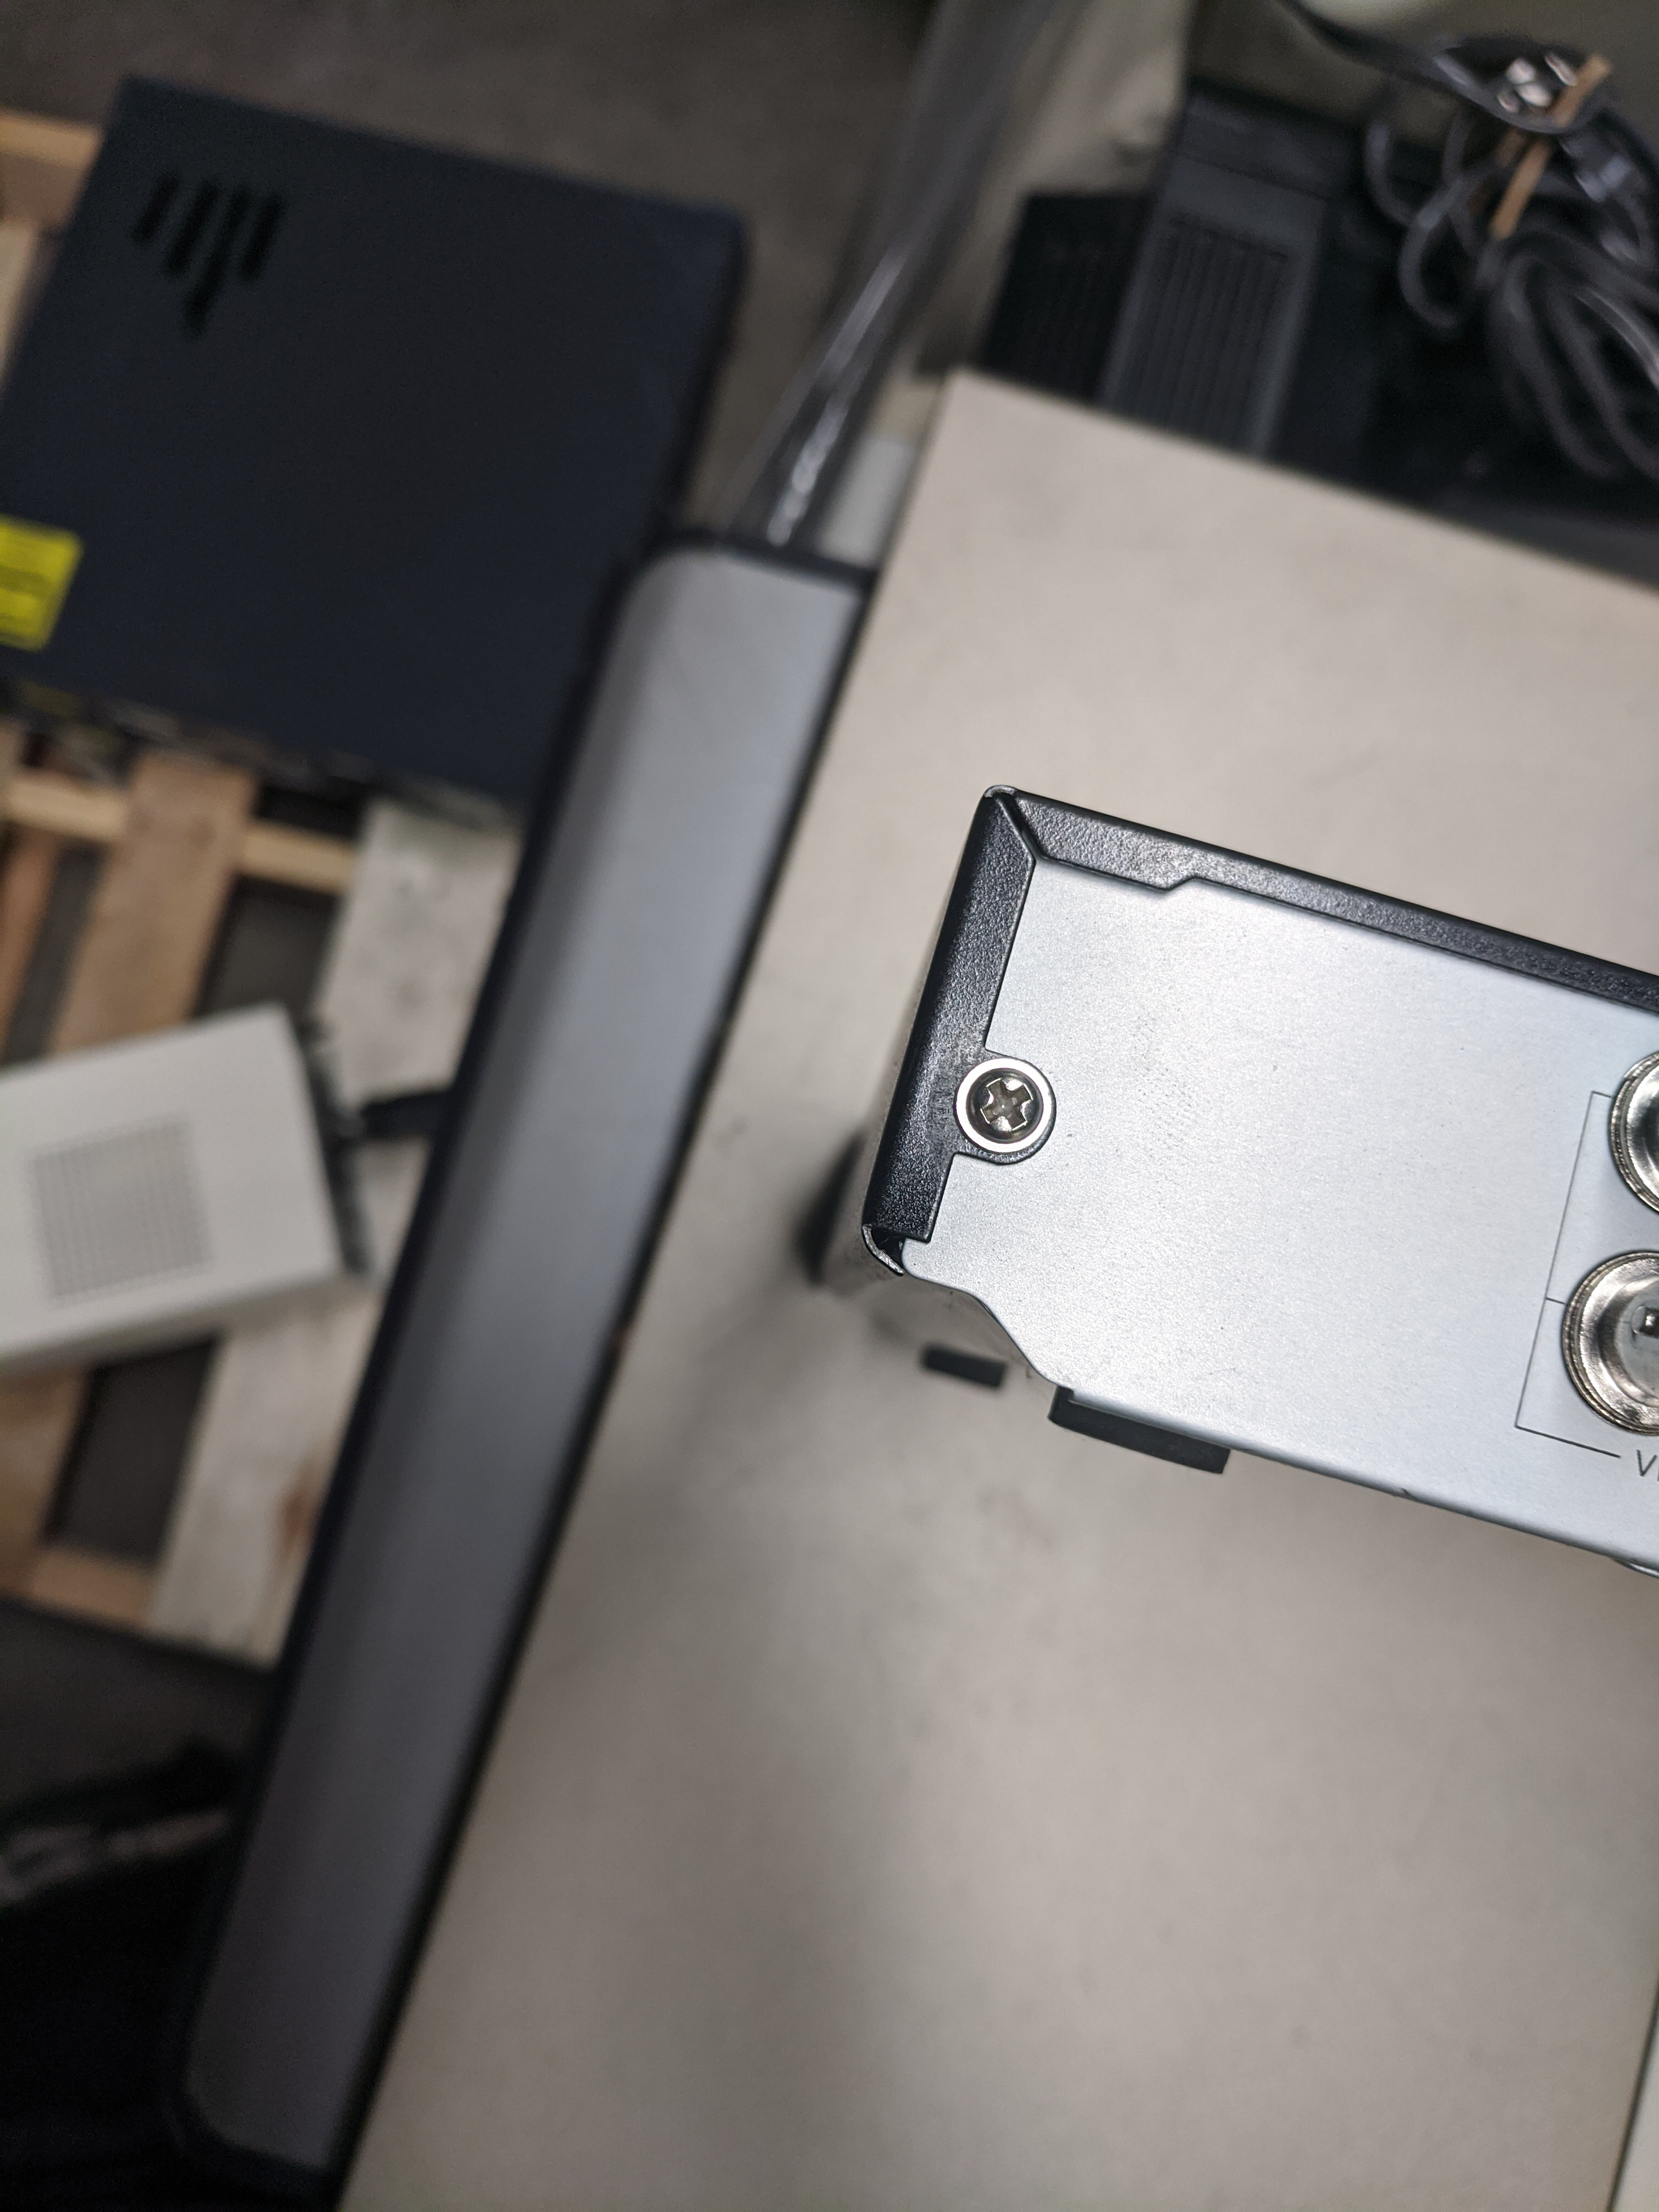cross_recessed_screw: (953, 1045, 1046, 1153)
